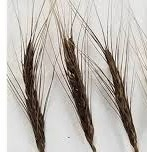Wheat Loose Smut: (57, 30, 97, 147), (12, 29, 53, 143)
